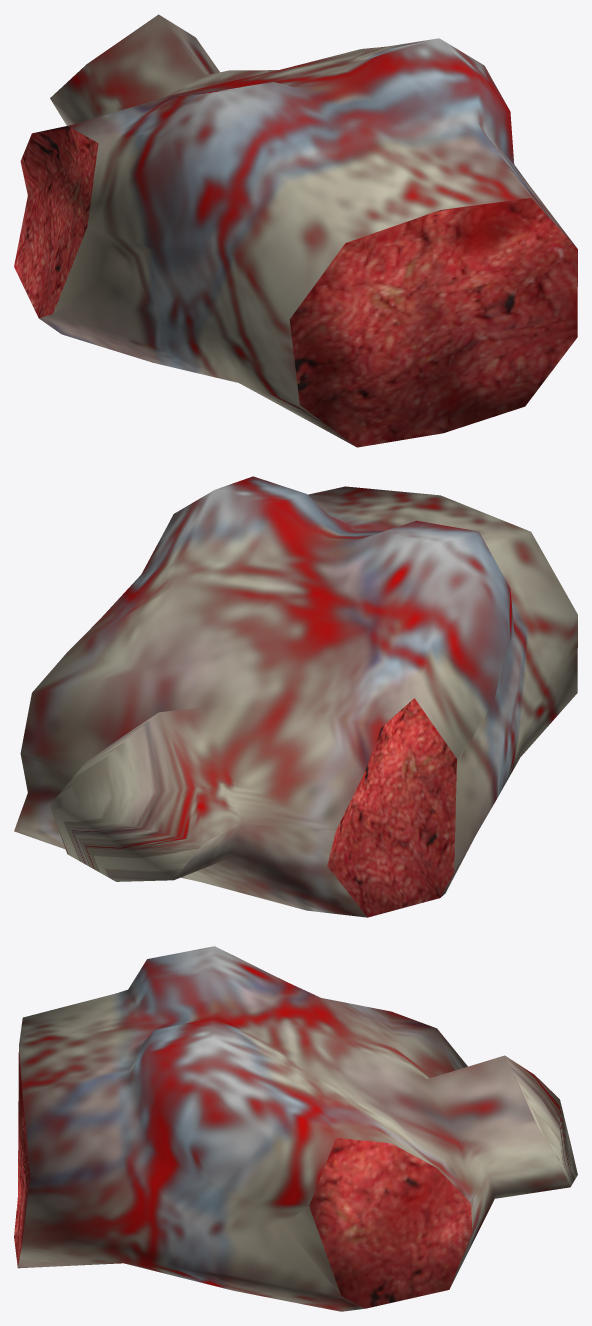
The model's file is FemaleTorso_WorldItem.fbx.
3 renders of one model, top to bottom at view 1: azimuth 30°, elevation 25°; view 2: azimuth 150°, elevation 25°; view 3: azimuth 270°, elevation 25°, orthographic. The views are drawn at different scales.
Parts seen in each view (by area): view 1: Body.001; view 2: Body.001; view 3: Body.001.
Part boxes in pixels (x1,y1,x2,y2): Body.001: (14, 14, 577, 447); Body.001: (14, 476, 577, 917); Body.001: (14, 946, 577, 1311).
Bounding box in the file's own units: 1.88 × 1.3 × 2.65.
